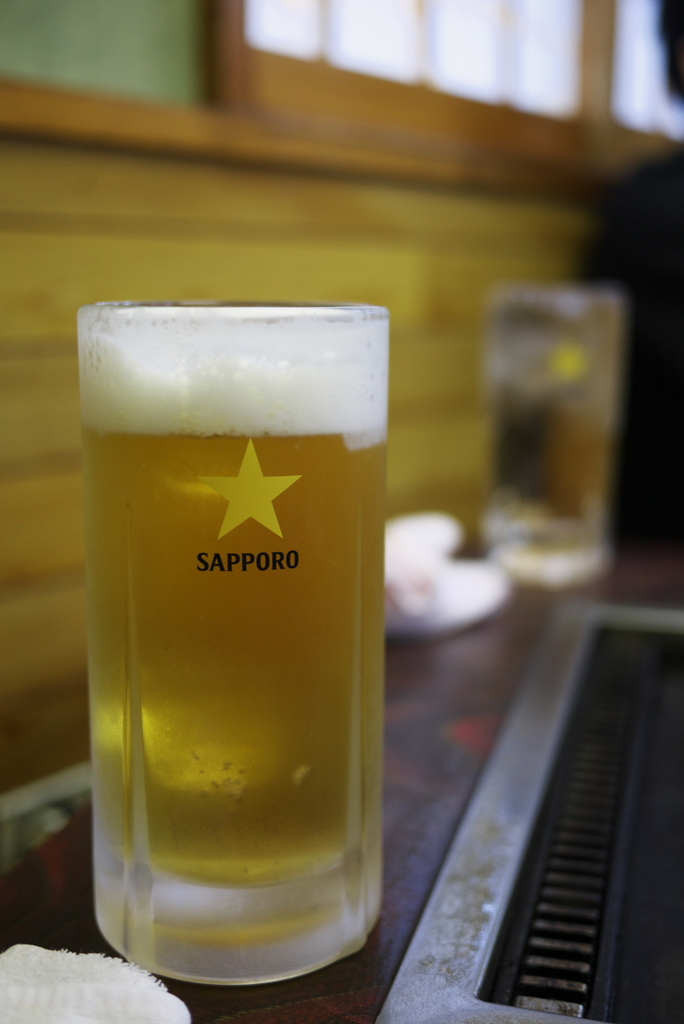Beer: (73, 295, 394, 1000)
